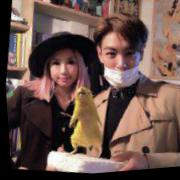NONE: (47, 51, 81, 90)
WRONG: (96, 38, 145, 92)
